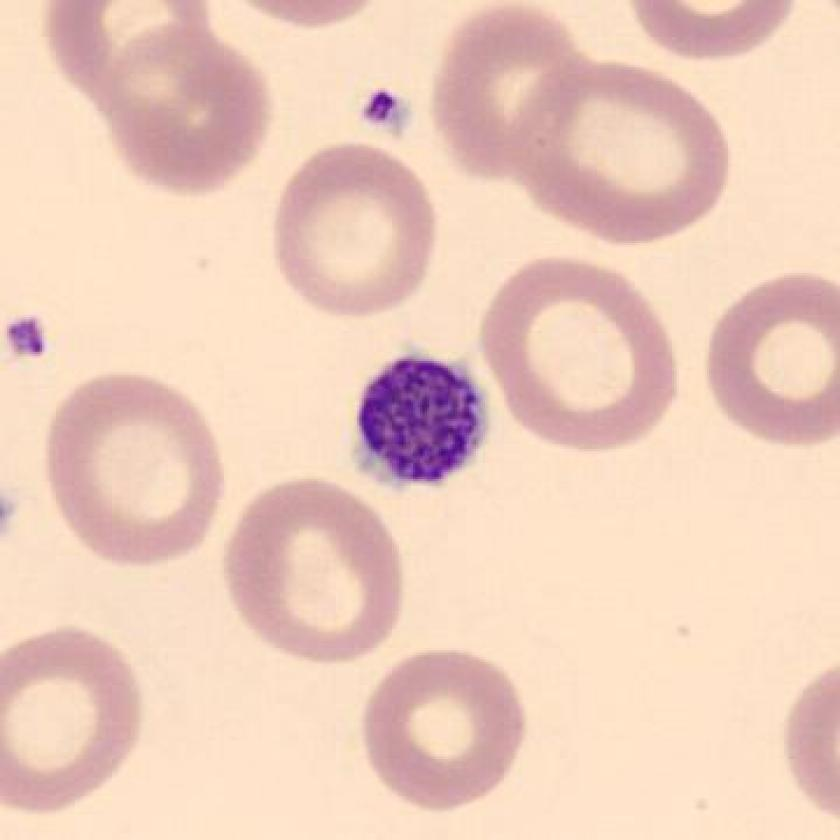platelets: (337, 341, 503, 506), (351, 80, 421, 156), (1, 309, 64, 369)
